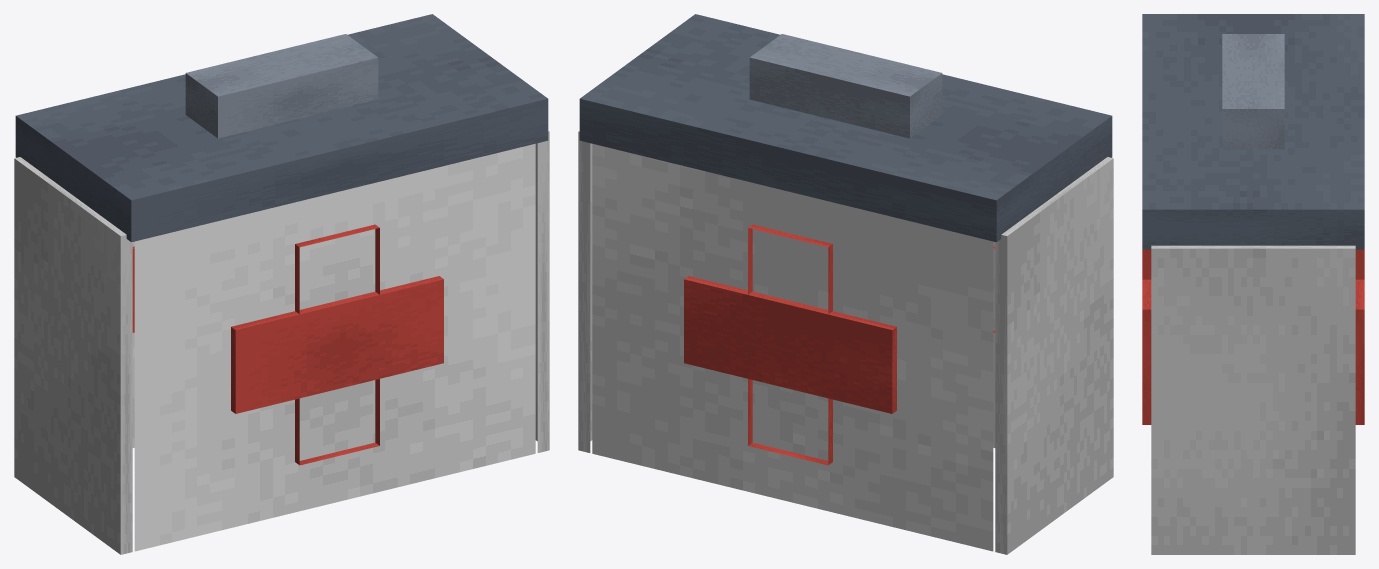
The model's file is pickup_health.glb.
3 renders of one model, left to right at view 1: azimuth 30°, elevation 25°; view 2: azimuth 150°, elevation 25°; view 3: azimuth 270°, elevation 25°, orthographic. The views are drawn at different scales.
Parts seen in each view (by area): view 1: pickup_health; view 2: pickup_health; view 3: pickup_health.
Part boxes in pixels (left/top/right/bottom): pickup_health: left=14, top=14, right=549, bottom=554; pickup_health: left=578, top=14, right=1113, bottom=554; pickup_health: left=1142, top=14, right=1364, bottom=554.
Bounding box in the file's own units: 1.07 × 0.95 × 0.5.
1 material, 1 textured.
